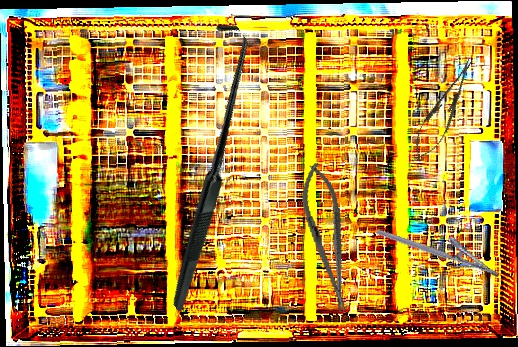Hook Surgical: (56, 16, 353, 313)
Needle Holder: (294, 158, 360, 318), (405, 51, 484, 168), (375, 211, 506, 279)
